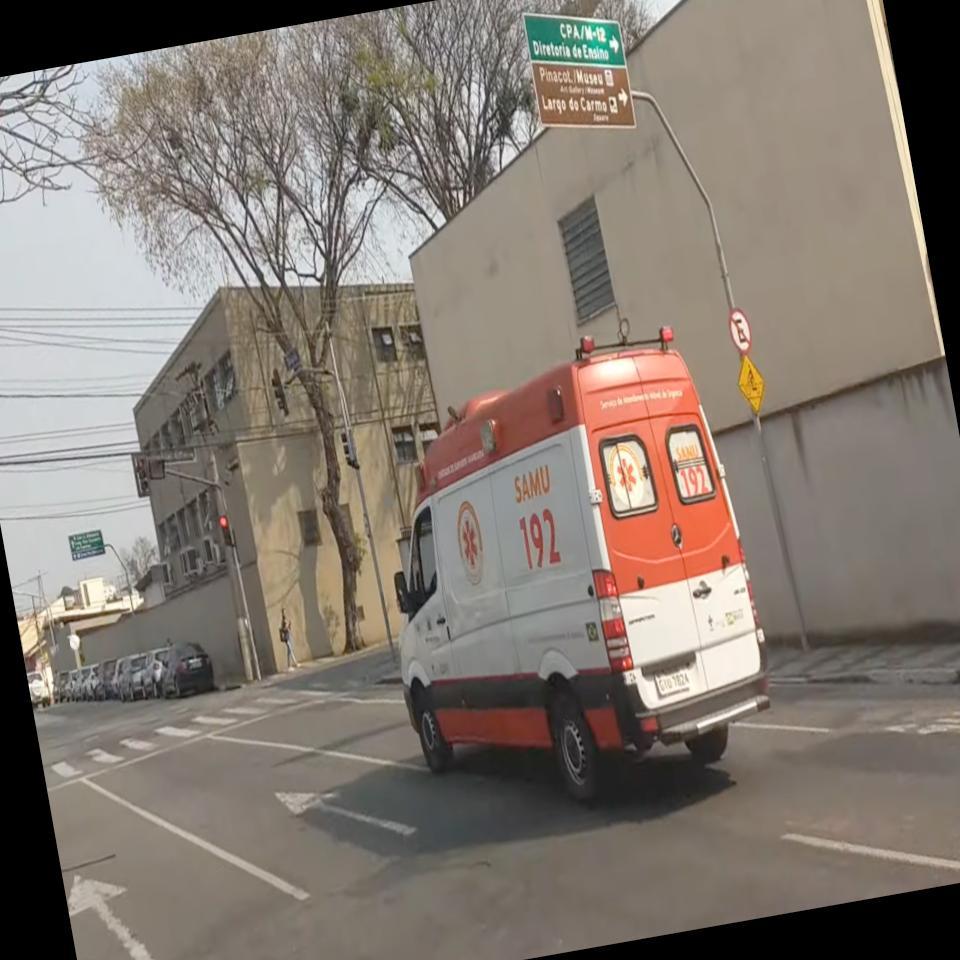bombeiro: (343, 314, 794, 845)
